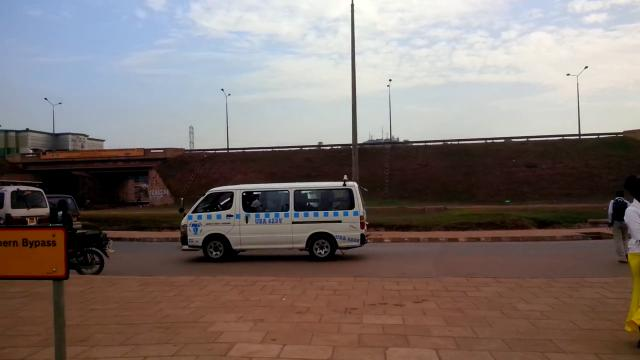motorcycle: (32, 215, 114, 279)
van: (180, 171, 369, 260), (0, 185, 50, 226)
